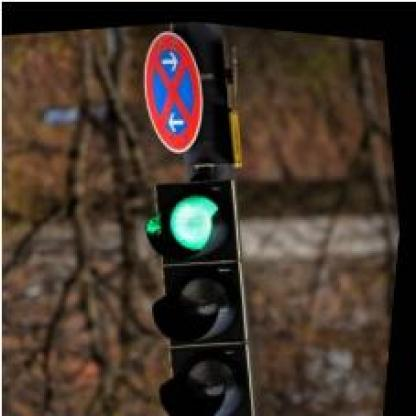green: (127, 168, 276, 415)
